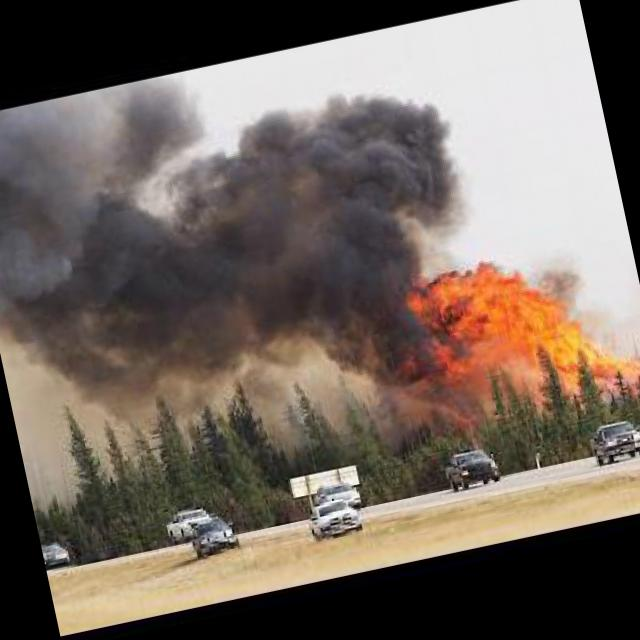fire: (385, 232, 640, 433)
smoke: (0, 21, 499, 441)
